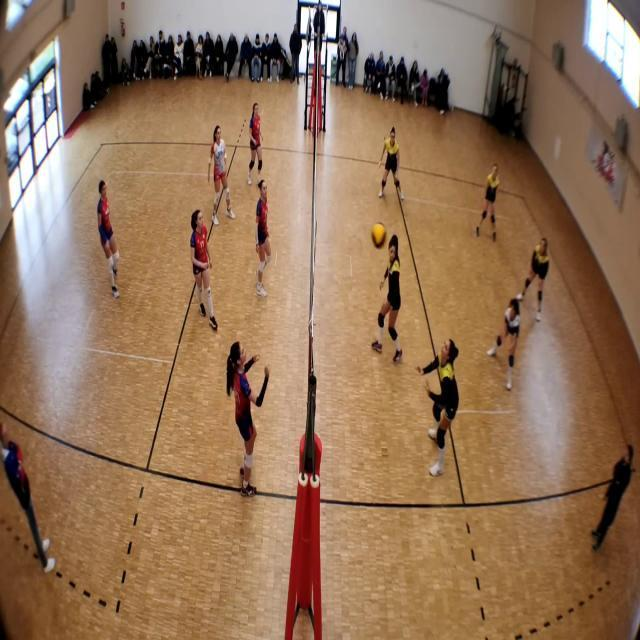volleyball: (372, 223, 388, 249)
